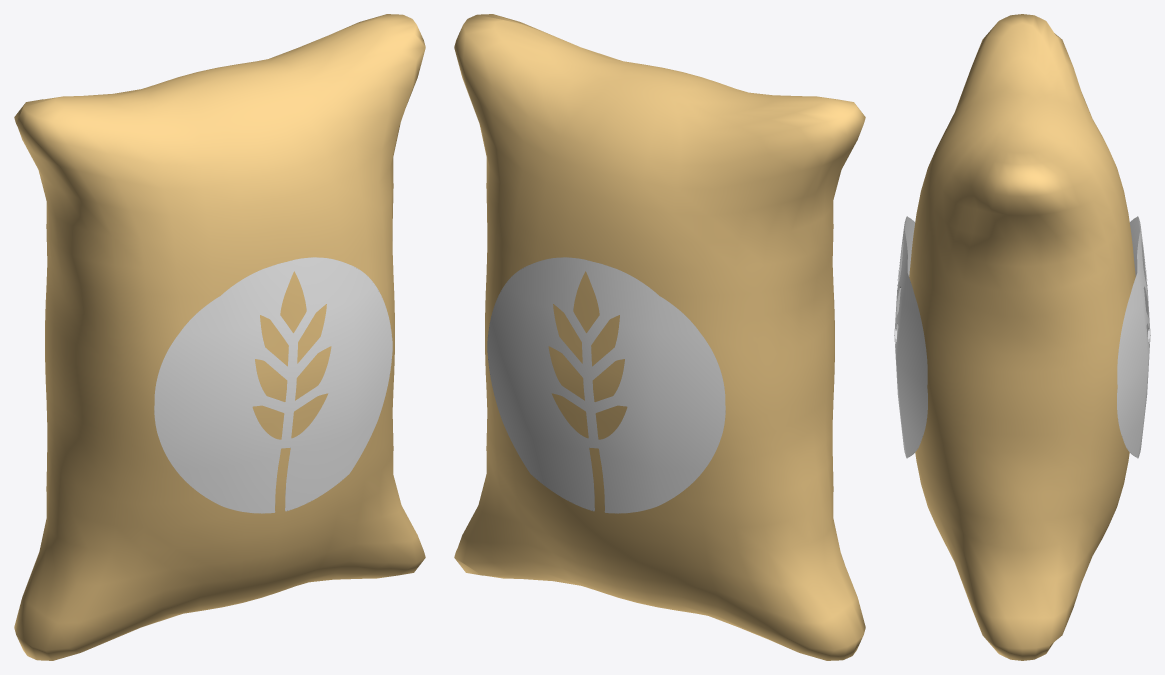
Rendered from Flour.fbx.
3 views of the same model, side by side, from view 1: azimuth 30°, elevation 25°; view 2: azimuth 150°, elevation 25°; view 3: azimuth 270°, elevation 25° (orthographic). The views are drawn at different scales.
Parts seen in each view (by area): view 1: Sphere.001, Icon; view 2: Sphere.001, Icon; view 3: Sphere.001, Icon.
Boxes of the visible parts, x1=… form: Sphere.001: x1=14, y1=14, x2=425, y2=660; Icon: x1=154, y1=257, x2=392, y2=513; Sphere.001: x1=454, y1=14, x2=865, y2=660; Icon: x1=487, y1=257, x2=725, y2=513; Sphere.001: x1=909, y1=14, x2=1135, y2=660; Icon: x1=894, y1=216, x2=1150, y2=458.
Size of the model in its own units: 219 by 293 by 139.
2 materials, 2 textured.
